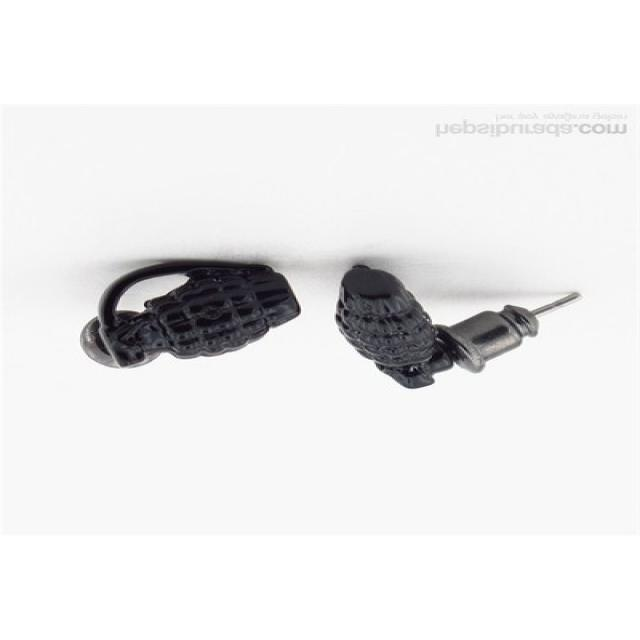grenade: (80, 259, 304, 373), (337, 263, 454, 390)
